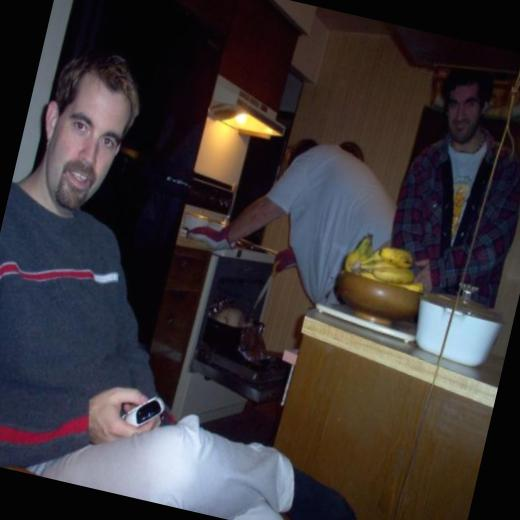Banana: (343, 233, 435, 315)
